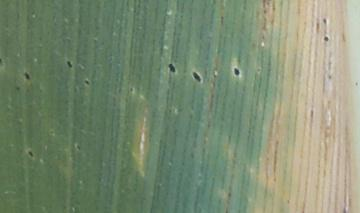tarspot: (191, 69, 203, 83), (232, 65, 240, 76), (167, 63, 176, 72), (23, 70, 31, 79), (322, 34, 330, 43), (66, 59, 73, 68), (321, 16, 328, 25), (83, 78, 90, 86), (27, 149, 33, 157), (76, 143, 82, 151), (327, 72, 333, 80), (15, 85, 21, 92), (128, 85, 134, 92), (1, 56, 3, 66)
